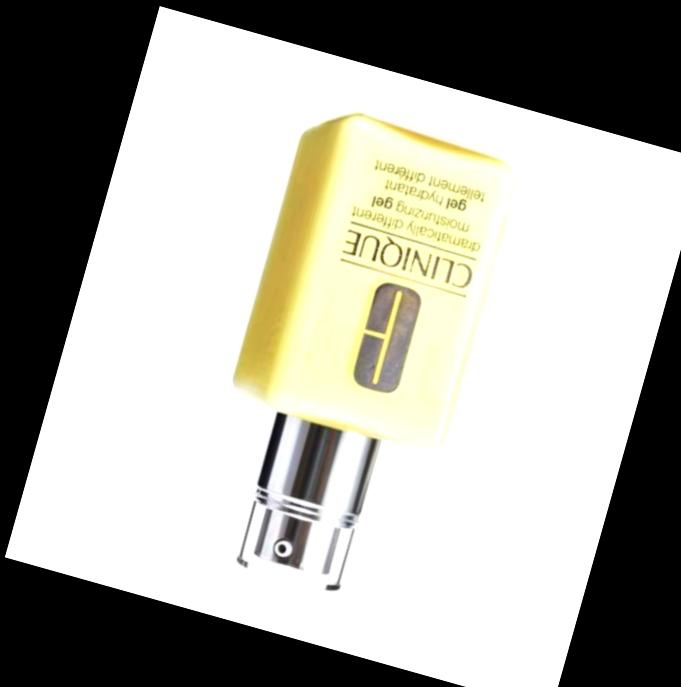cosmetic: (181, 103, 523, 617)
